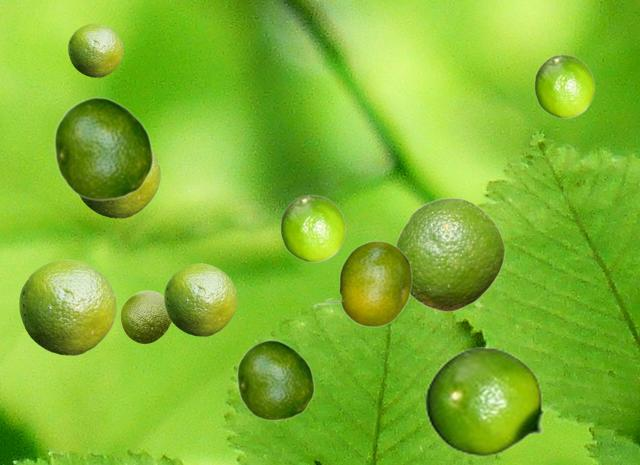calamansi: (424, 347, 556, 456), (395, 197, 504, 311), (53, 96, 153, 200), (19, 259, 115, 354), (314, 240, 411, 326), (236, 339, 314, 420), (79, 151, 159, 217), (164, 263, 236, 335), (280, 194, 345, 261), (534, 54, 594, 117), (68, 23, 122, 76), (120, 290, 171, 343)
